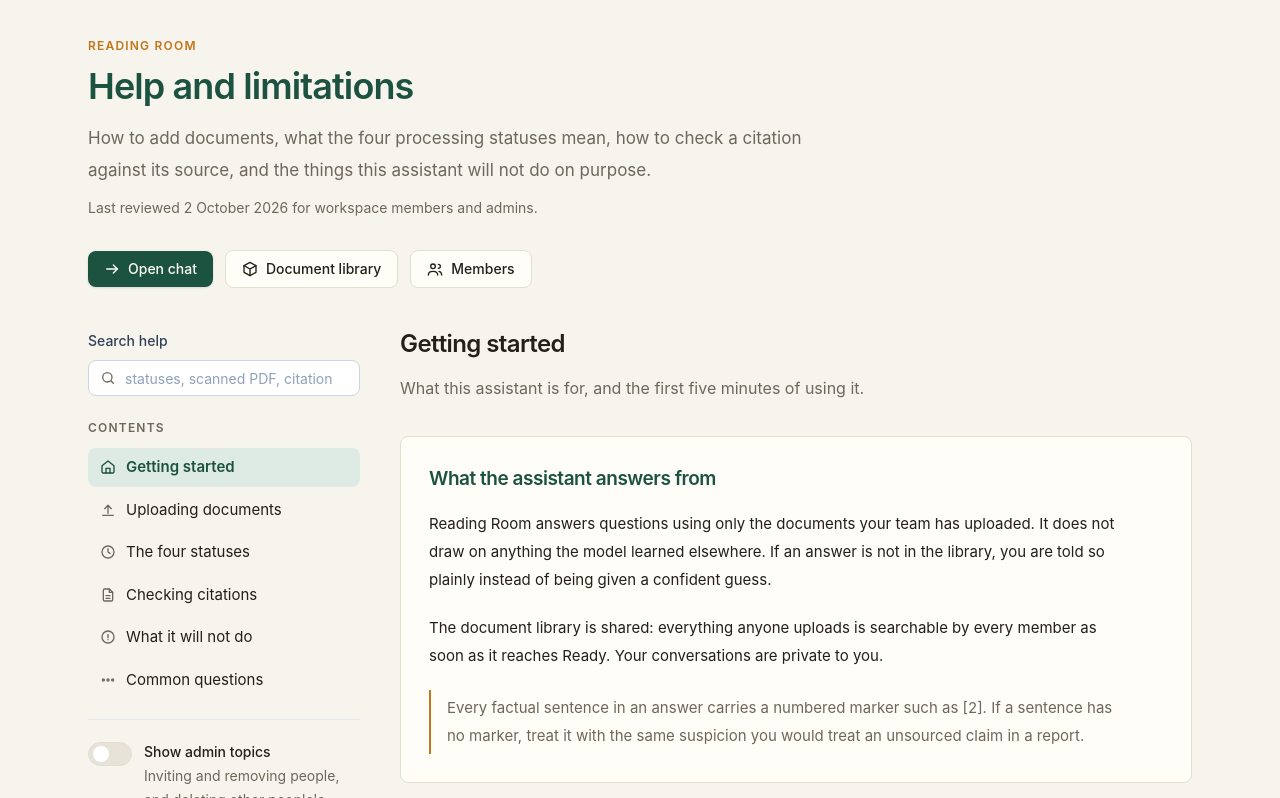
Scenario: Help screen › states the limitations required by the product: documents-only answers, no OCR, 50MB limit, English assumption, shared docs/private chats
Expected: the text "answers questions using only the documents your team has uploaded" is shown, [429, 514, 1114, 588]
Click the tab "What it will not do". click: (224,637)
box: [88, 618, 360, 656]
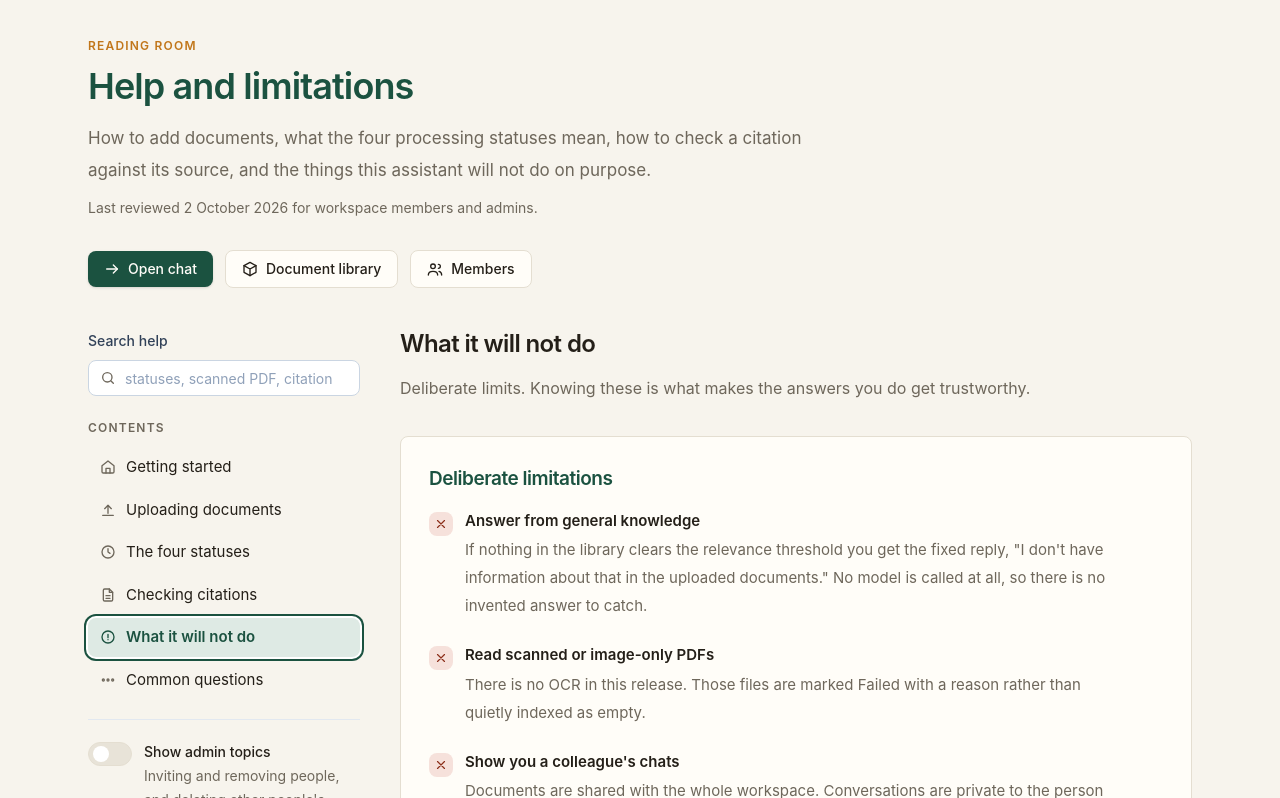
Expected: the text "Read scanned or image-only PDFs" is shown, [465, 645, 714, 664]
Expected: the text "There is no OCR in this release" is shown, [465, 674, 1081, 722]
Click the tab "Uploading documents". click: (224,510)
box: [88, 490, 360, 529]
(page scrolled)
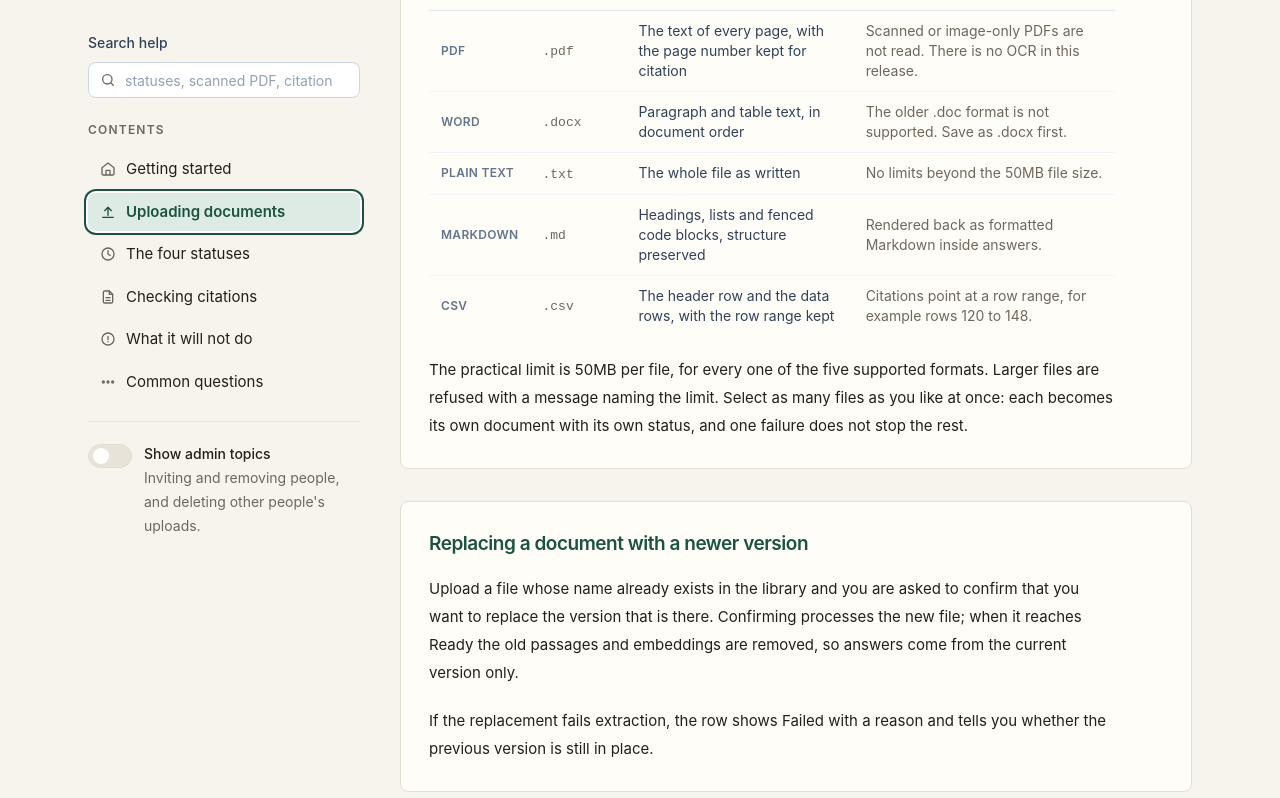
Expected: the text "50MB per file, for every one of the five supported formats" is shown, [429, 360, 1113, 435]
